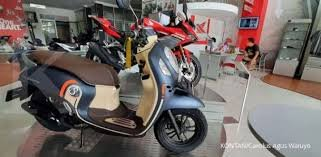motor: (18, 38, 214, 155)
